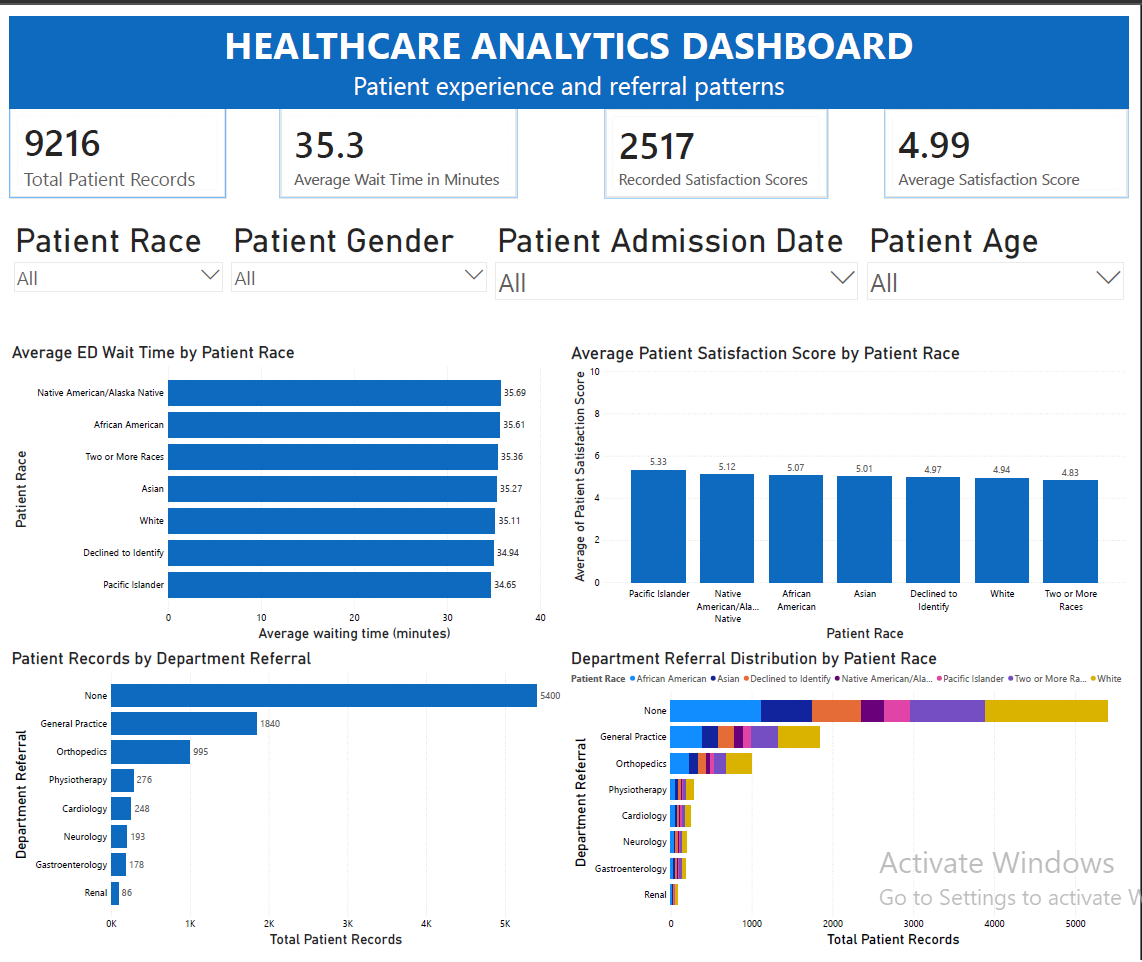

The page's visual inventory and layout, read from the dashboard file:
{"tool":"powerbi","page":{"name":"Page 1","canvas":[2400,2000],"ordinal":0},"visuals":[{"type":"cardVisual","title":"Total Patient Records","fields":{"Data":["Hospital ER_Data.Total Patient Records"]},"box":[0,195,465,195],"z":0},{"type":"cardVisual","fields":{"Data":["Hospital ER_Data.Average Wait Time"]},"box":[580,195,510,195],"z":1000},{"type":"cardVisual","fields":{"Data":["Hospital ER_Data.Recorded Satisfaction Scores"]},"box":[1275.7,197.1,480,194.3],"z":2000},{"type":"cardVisual","fields":{"Data":["Hospital ER_Data.Average Satisfaction Score"]},"box":[1875.7,195.7,524.3,194.3],"z":3000},{"type":"clusteredBarChart","title":"Average ED Wait Time by Patient Race","fields":{"Category":["Hospital ER_Data.Patient Race"],"Y":["Avg(Hospital ER_Data.Patient Waittime)"]},"box":[0,700,1155,645],"z":4000},{"type":"clusteredColumnChart","title":"Average Patient Satisfaction Score by Patient Race","fields":{"Category":["Hospital ER_Data.Patient Race"],"Y":["Avg(Hospital ER_Data.Patient Satisfaction Score)"]},"box":[1200,700,1200,645],"z":5000},{"type":"clusteredBarChart","title":"Patient Records by Department Referral","fields":{"Category":["Hospital ER_Data.Department Referral"],"Y":["Hospital ER_Data.Total Patient Records"]},"box":[0,1355,1200,645],"z":6000},{"type":"barChart","title":"Department Referral Distribution by Patient Race","fields":{"Category":["Hospital ER_Data.Department Referral"],"Y":["Hospital ER_Data.Total Patient Records"],"Series":["Hospital ER_Data.Patient Race"]},"box":[1200,1355,1200,645],"z":7000},{"type":"slicer","fields":{"Values":["Hospital ER_Data.Patient Race"]},"box":[0,433.3,466.7,176.7],"z":8000},{"type":"slicer","fields":{"Values":["Hospital ER_Data.Patient Gender"]},"box":[466.7,433.3,566.7,176.7],"z":9000},{"type":"textbox","box":[0,0,2400,196.7],"z":10000},{"type":"slicer","fields":{"Values":["Hospital ER_Data.Patient Age"]},"box":[1830,433.3,570,176.7],"z":11000},{"type":"slicer","fields":{"Values":["Hospital ER_Data.Patient Admission Date"]},"box":[1033.3,433.3,796.7,176.7],"z":12000}]}

Visuals, with their boxes in screenshot pixels (x1, y1, x2, y2), scaled from the page's 2400x2000 canvas onto the 1142x962 screenshot:
"Total Patient Records" cardVisual: 0 94 221 188
cardVisual - Hospital ER_Data.Average Wait Time: 276 94 519 188
cardVisual - Hospital ER_Data.Recorded Satisfaction Scores: 607 95 835 188
cardVisual - Hospital ER_Data.Average Satisfaction Score: 893 94 1141 188
"Average ED Wait Time by Patient Race" clusteredBarChart: 0 337 550 647
"Average Patient Satisfaction Score by Patient Race" clusteredColumnChart: 571 337 1141 647
"Patient Records by Department Referral" clusteredBarChart: 0 652 571 961
"Department Referral Distribution by Patient Race" barChart: 571 652 1141 961
slicer - Hospital ER_Data.Patient Race: 0 208 222 293
slicer - Hospital ER_Data.Patient Gender: 222 208 492 293
textbox: 0 0 1141 95
slicer - Hospital ER_Data.Patient Age: 871 208 1141 293
slicer - Hospital ER_Data.Patient Admission Date: 492 208 871 293
